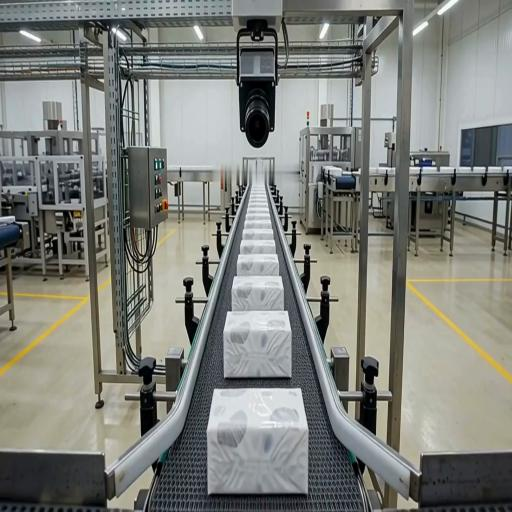good: (207, 389, 308, 494), (224, 311, 291, 378), (232, 276, 283, 311), (237, 255, 279, 276), (240, 240, 275, 254), (243, 229, 274, 240), (244, 219, 271, 228)
